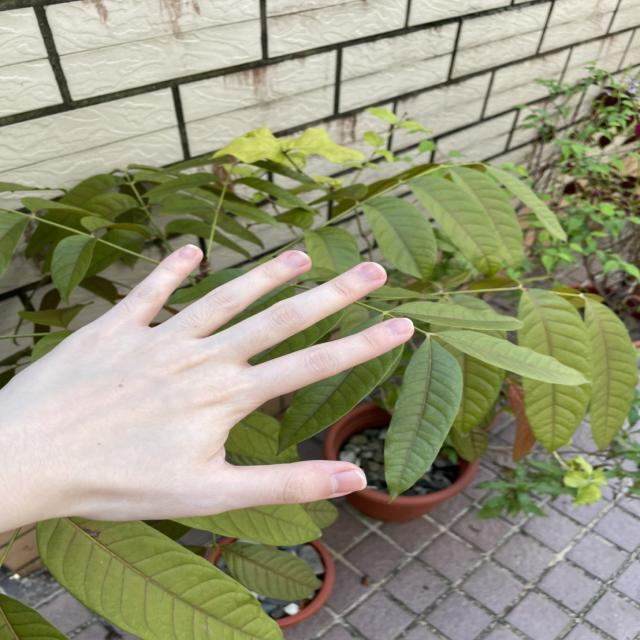hand: (0, 225, 427, 558)
